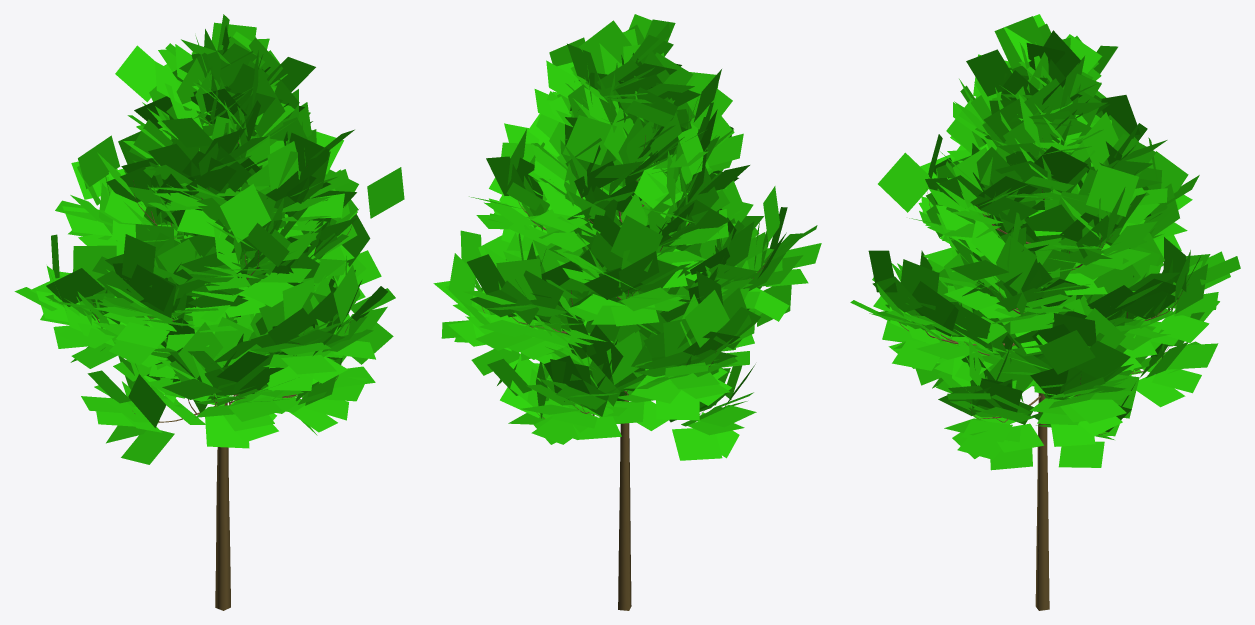
Rendered from pine_large.fbx.
The picture shows the model from 3 angles, left to right: view 1: azimuth 30°, elevation 25°; view 2: azimuth 150°, elevation 25°; view 3: azimuth 270°, elevation 25°; orthographic projection.
Visible parts, largest first — view 1: leaves; view 2: leaves; view 3: leaves.
Part boxes in pixels (bbox=[...]): leaves: bbox=[14, 14, 404, 610]; leaves: bbox=[433, 14, 821, 610]; leaves: bbox=[850, 14, 1240, 610].
Size of the model in its own units: 1133 by 1939 by 1182.
